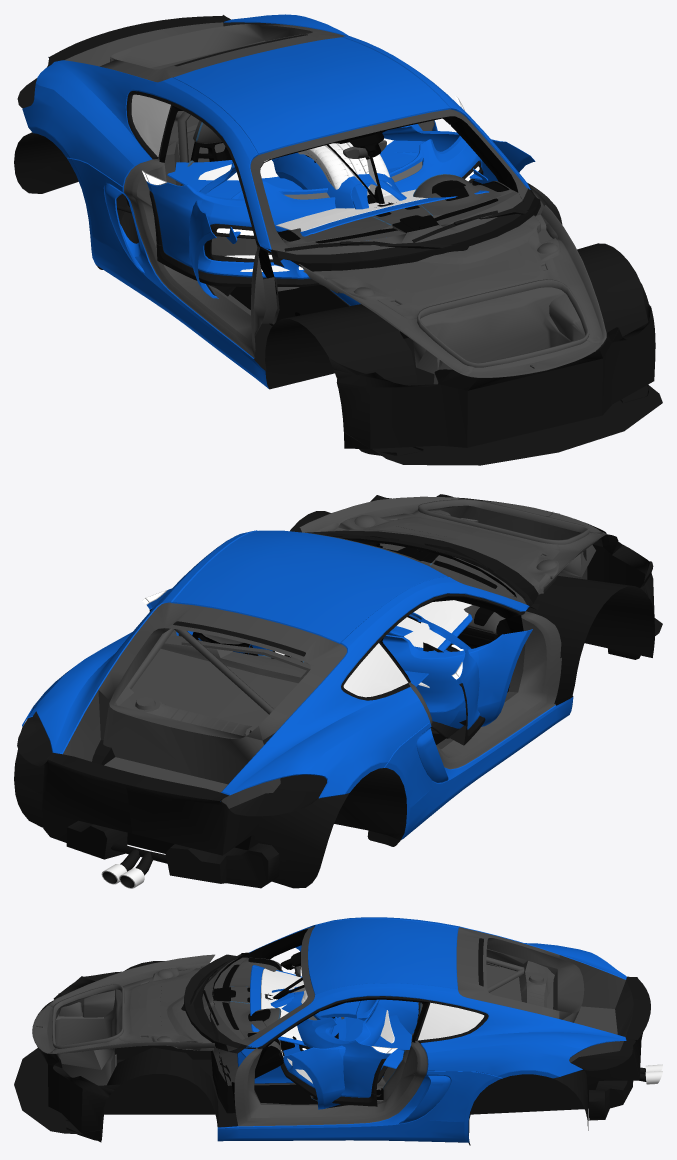
File: porsche-gt4.glb
3 views of the same model, one above another, from view 1: azimuth 30°, elevation 25°; view 2: azimuth 150°, elevation 25°; view 3: azimuth 270°, elevation 25° (orthographic). The views are drawn at different scales.
Parts seen in each view (by area): view 1: CaymanGT4_body, CaymanGT4.FrontBumper, CaymanGT4.RearBumper, CaymanGT4.Hood, CaymanGT4.RightFender, CaymanGT4.Tailgate, CaymanGT4.Wheel.Bk.R, CaymanGT4.Windshield, CaymanGT4.Wheel.Bk.L; view 2: CaymanGT4_body, CaymanGT4.RearBumper, CaymanGT4.FrontBumper, CaymanGT4.Tailgate; view 3: CaymanGT4_body, CaymanGT4.FrontBumper, CaymanGT4.RearBumper, CaymanGT4.Tailgate, CaymanGT4.LeftFender, CaymanGT4.Hood, CaymanGT4.LeftDoor, CaymanGT4.Windshield.
Boxes of the visible parts, x1,y1,x2,y2 form: CaymanGT4_body: (14,14,662,465); CaymanGT4.FrontBumper: (142,96,483,287); CaymanGT4.RearBumper: (189,124,535,298); CaymanGT4.Hood: (167,124,424,198); CaymanGT4.RightFender: (272,152,406,208); CaymanGT4.Tailgate: (275,189,489,236); CaymanGT4.Wheel.Bk.R: (298,142,390,194); CaymanGT4.Windshield: (198,138,393,271); CaymanGT4.Wheel.Bk.L: (299,142,391,196); CaymanGT4_body: (14,494,662,888); CaymanGT4.RearBumper: (199,626,532,738); CaymanGT4.FrontBumper: (142,588,485,745); CaymanGT4.Tailgate: (397,600,472,650); CaymanGT4_body: (14,917,662,1145); CaymanGT4.FrontBumper: (280,1014,397,1106); CaymanGT4.RearBumper: (283,945,389,1109); CaymanGT4.Tailgate: (250,965,404,1068); CaymanGT4.LeftFender: (272,988,418,1050); CaymanGT4.Hood: (241,1015,411,1057); CaymanGT4.LeftDoor: (237,977,383,1083); CaymanGT4.Windshield: (287,1010,394,1083).
Size of the model in its own units: 58712 by 34895 by 139556.
